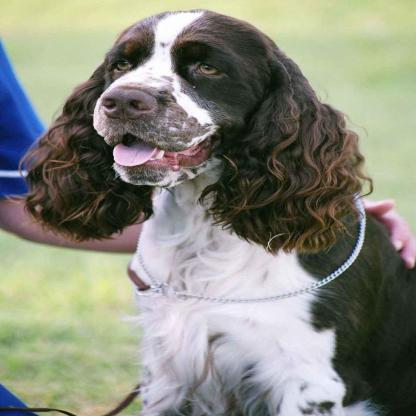English_springer: (29, 11, 414, 414)
